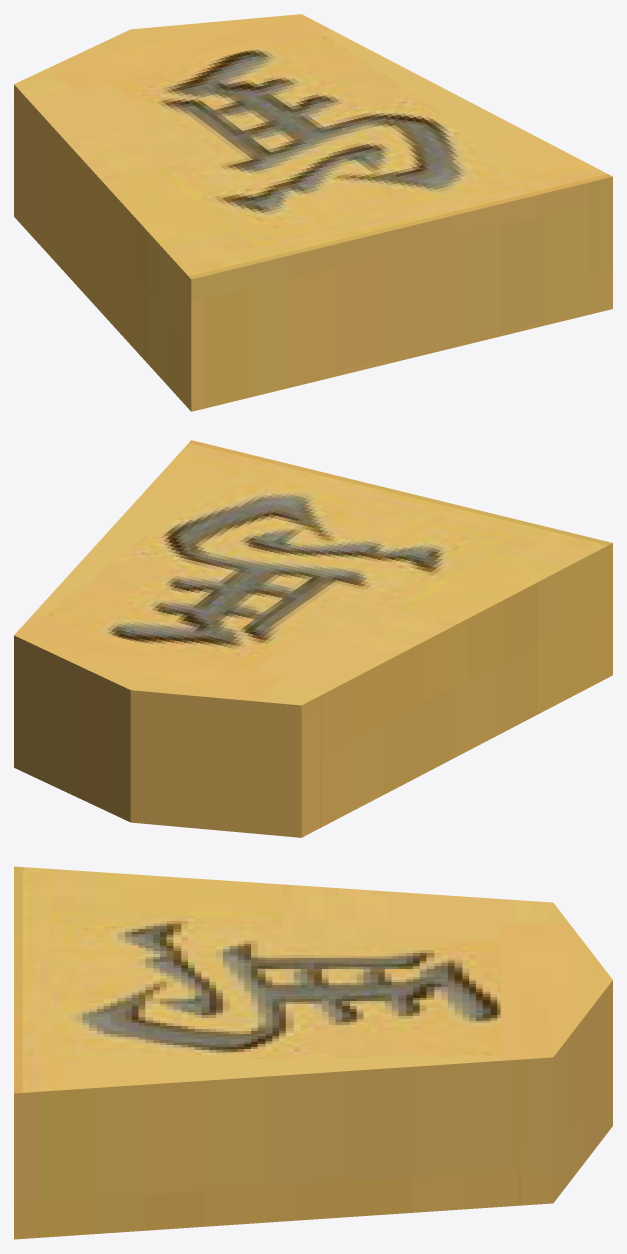
Rendered from KAKU_01.fbx.
3 views of the same model, one above another, from view 1: azimuth 30°, elevation 25°; view 2: azimuth 150°, elevation 25°; view 3: azimuth 270°, elevation 25° (orthographic). The views are drawn at different scales.
Visible parts, largest first — view 1: Circle; view 2: Circle; view 3: Circle.
Boxes of the visible parts, x1=… form: Circle: x1=14, y1=14, x2=612, y2=411; Circle: x1=14, y1=440, x2=612, y2=837; Circle: x1=14, y1=866, x2=612, y2=1239.
Bounding box in the file's own units: 100 × 30 × 112.
